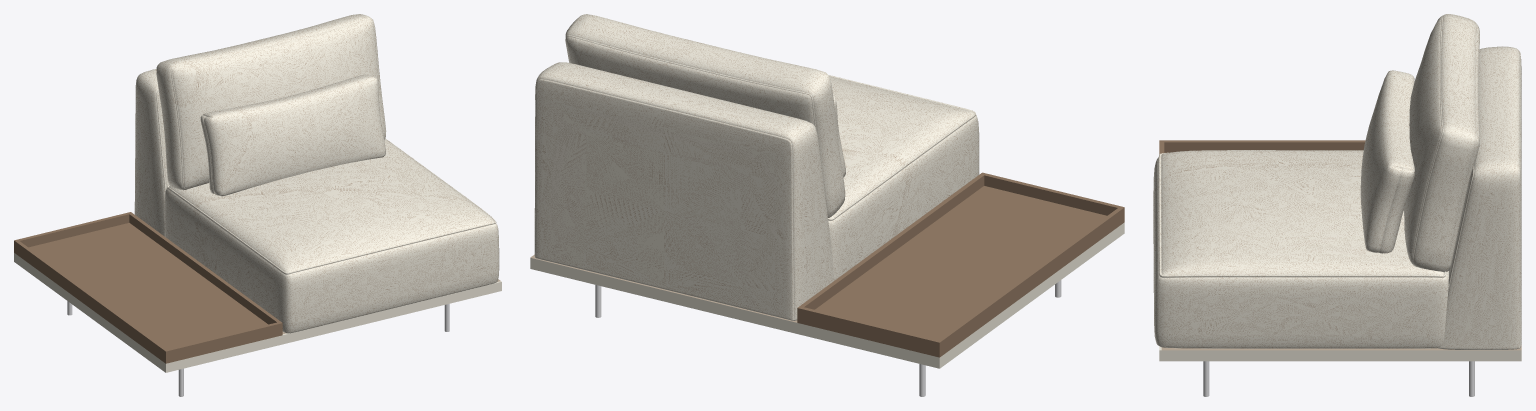
Rendered from single_tray(L).glb.
The picture shows the model from 3 angles, left to right: view 1: azimuth 30°, elevation 25°; view 2: azimuth 150°, elevation 25°; view 3: azimuth 270°, elevation 25°; orthographic projection. The views are drawn at different scales.
Visible parts, largest first — view 1: group_5, group_1, instance_0.003, group_2, instance_0.001, instance_0.004, group_4; view 2: group_4, instance_0.003, group_5, group_1, instance_0.001, instance_0.004; view 3: group_5, group_4, group_1, group_2, instance_0.004, instance_0.003, instance_0.011, instance_0.001.
Boxes of the visible parts, x1,y1,x2,y2 form: group_5: (164,138,499,333); group_1: (156,14,386,190); instance_0.003: (20,214,276,348); group_2: (200,74,385,196); instance_0.001: (14,212,282,363); instance_0.004: (14,253,501,372); group_4: (134,69,168,236); group_4: (534,62,834,320); instance_0.003: (804,175,1117,339); group_5: (828,75,979,280); group_1: (565,14,845,217); instance_0.001: (797,172,1124,357); instance_0.004: (530,222,1124,368); group_5: (1153,150,1448,348); group_4: (1437,46,1521,349); group_1: (1403,14,1479,272); group_2: (1360,70,1414,253); instance_0.004: (1159,346,1521,361); instance_0.003: (1164,142,1364,152); instance_0.011: (1161,345,1521,350); instance_0.001: (1159,140,1365,154).
Bounding box in the file's own units: 1.15 × 0.7699 × 0.9152.
